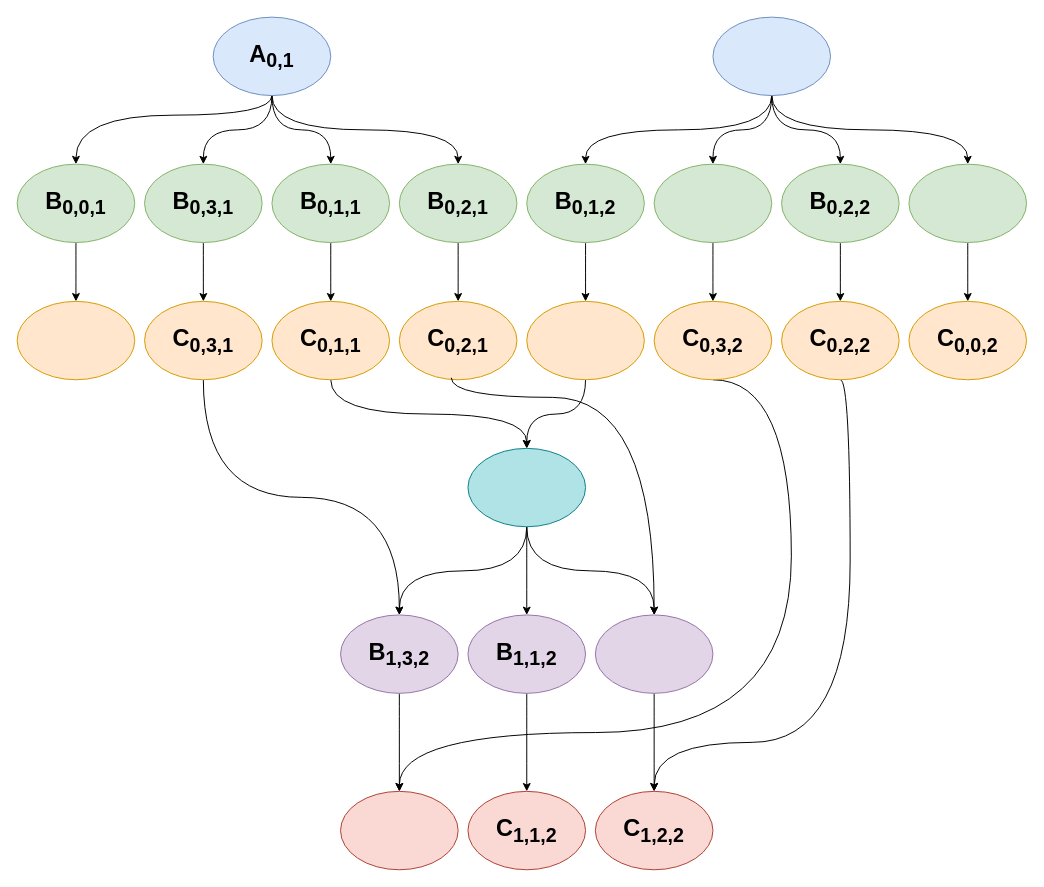
The diagram is 1044 pixels wide and 887 high, and some of its shapes have lost their labels. The shapes that lost their labels are listed below. From the top down, each one's box as (x1, y1, x2, y2) in pixels, then its label:
(712, 16, 831, 96): A 0,2
(653, 163, 772, 243): B 0,3,2
(908, 163, 1027, 243): B 0,0,2
(16, 300, 135, 380): C 0,0,1
(526, 300, 644, 380): C 0,1,2
(467, 447, 586, 527): A 1,2
(594, 614, 713, 693): B 1,2,2
(340, 790, 458, 870): C 1,3,2
